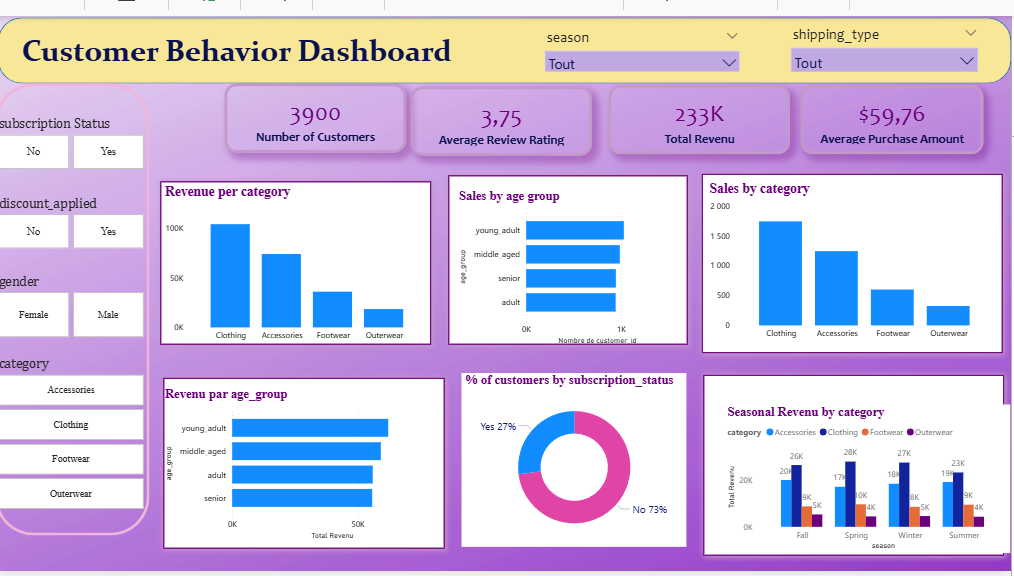

What the dashboard file says about the page in this screenshot:
{"tool":"powerbi","page":{"name":"Page 1","canvas":[1500,820],"ordinal":0},"visuals":[{"type":"card","fields":{"Values":["Key_measures.Number of Customers"]},"box":[338,100.7,268,102],"z":0},{"type":"shape","title":"Customer Behavior Dashboard","box":[4,2,1496,97.3],"z":1000},{"type":"card","fields":{"Values":["Key_measures.Average Review Rating"]},"box":[613.3,103.3,268,102],"z":2000},{"type":"card","fields":{"Values":["Key_measures.Average Purchase Amount"]},"box":[1190,102.7,270,102],"z":3000},{"type":"card","fields":{"Values":["Key_measures.Total Revenu"]},"box":[905.3,101.3,268,102],"z":4000},{"type":"shape","box":[239.2,524.9,434.1,270.9],"z":5000},{"type":"clusteredBarChart","title":"Revenu par age_group","fields":{"Category":["customer.age_group"],"Y":["Key_measures.Total Revenu"]},"box":[245.8,547,415.6,230.3],"z":6000},{"type":"shape","box":[1036.4,520.4,462.8,285.7],"z":7000},{"type":"advancedSlicerVisual","fields":{"Values":["customer.subscription_status"]},"box":[0,145.3,224,84],"z":8000},{"type":"advancedSlicerVisual","fields":{"Values":["customer.gender"]},"box":[0,378,224,100],"z":9000},{"type":"advancedSlicerVisual","fields":{"Values":["customer.category"]},"box":[0,500.7,224,232],"z":10000},{"type":"advancedSlicerVisual","fields":{"Values":["customer.discount_applied"]},"box":[0,264,224,84],"z":11000},{"type":"shape","box":[0,100,228,667.3],"z":12000},{"type":"slicer","fields":{"Values":["customer.season"]},"box":[801.7,13.3,307.8,68.7],"z":13000},{"type":"slicer","fields":{"Values":["customer.shipping_type"]},"box":[1164.9,8.9,296.8,73.1],"z":14000},{"type":"clusteredColumnChart","title":"Seasonal Revenu by category","fields":{"Category":["customer.season"],"Y":["Key_measures.Total Revenu"],"Series":["customer.category"]},"box":[1077,572.8,423,219.2],"z":15000},{"type":"shape","box":[1034.2,223.7,462.8,283.5],"z":16000},{"type":"clusteredColumnChart","title":"Sales by category","fields":{"Category":["customer.category"],"Y":["CountNonNull(customer.customer_id)"]},"box":[1049.7,243.6,429.6,242.9],"z":17000},{"type":"shape","box":[659.9,225.1,372.1,268.7],"z":18000},{"type":"shape","box":[234.7,234,418.6,259.8],"z":19000},{"type":"clusteredBarChart","title":"Sales by age group","fields":{"Category":["customer.age_group"],"Y":["Count(customer.customer_id)"]},"box":[679.9,254.7,334.4,234.7],"z":20000},{"type":"donutChart","title":"% of customers by subscription_status","fields":{"Category":["customer.subscription_status"],"Y":["CountNonNull(customer.customer_id)"]},"box":[688.7,527.1,332.2,256.9],"z":21000},{"type":"clusteredColumnChart","title":"Revenue per category","fields":{"Y":["Sum(customer.purchase_amount)"],"Category":["customer.category"]},"box":[245.8,247.3,394.2,241.4],"z":22000}]}

Visuals, with their boxes in screenshot pixels (x1, y1, x2, y2):
card - Key_measures.Number of Customers: detection(233, 80, 412, 148)
"Customer Behavior Dashboard" shape: detection(11, 15, 1008, 79)
card - Key_measures.Average Review Rating: detection(417, 82, 595, 150)
card - Key_measures.Average Purchase Amount: detection(801, 82, 981, 150)
card - Key_measures.Total Revenu: detection(611, 81, 790, 149)
shape: detection(167, 363, 457, 544)
"Revenu par age_group" clusteredBarChart: detection(172, 378, 449, 531)
shape: detection(699, 360, 1007, 551)
advancedSlicerVisual - customer.subscription_status: detection(8, 110, 157, 166)
advancedSlicerVisual - customer.gender: detection(8, 265, 157, 332)
advancedSlicerVisual - customer.category: detection(8, 347, 157, 502)
advancedSlicerVisual - customer.discount_applied: detection(8, 189, 157, 245)
shape: detection(8, 80, 160, 525)
slicer - customer.season: detection(542, 22, 748, 68)
slicer - customer.shipping_type: detection(785, 19, 982, 68)
"Seasonal Revenu by category" clusteredColumnChart: detection(726, 395, 1008, 541)
shape: detection(697, 162, 1006, 351)
"Sales by category" clusteredColumnChart: detection(708, 176, 994, 338)
shape: detection(448, 163, 696, 342)
shape: detection(164, 169, 443, 342)
"Sales by age group" clusteredBarChart: detection(461, 183, 684, 339)
"% of customers by subscription_status" donutChart: detection(467, 365, 689, 536)
"Revenue per category" clusteredColumnChart: detection(172, 178, 435, 339)
